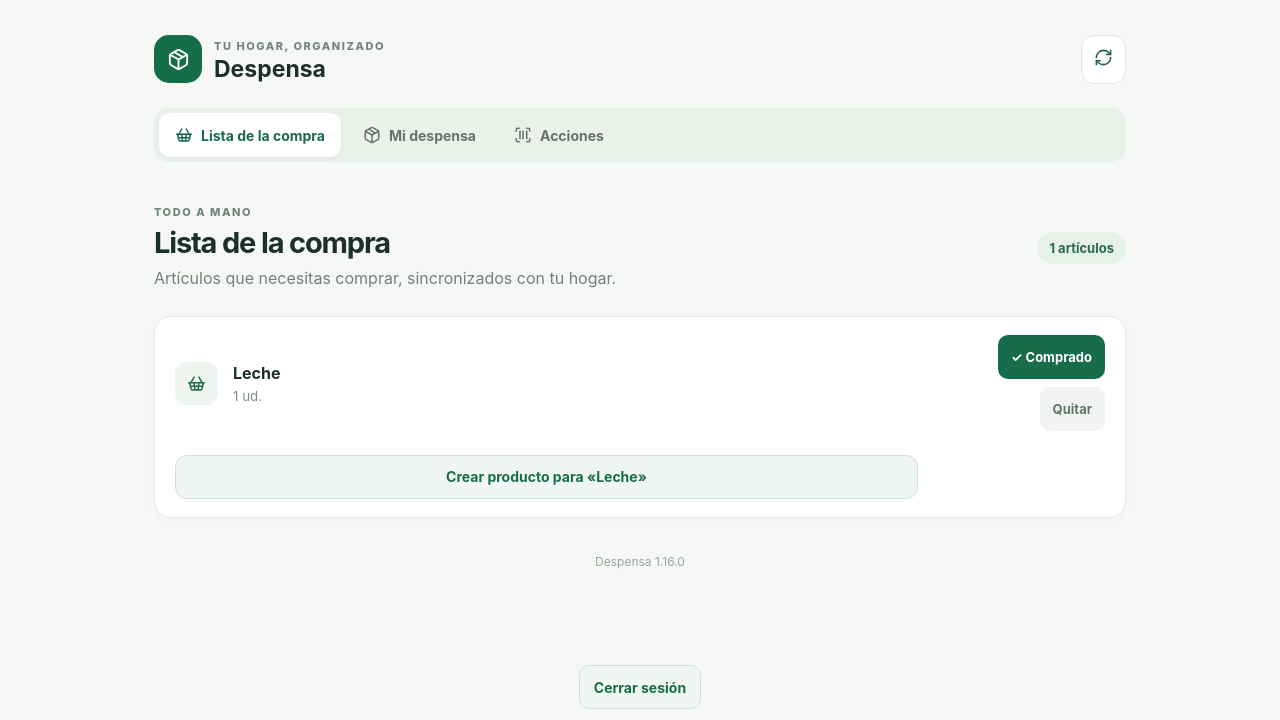
it: keeps creation only in the pantry and loads archives only through Actions
Step 1. Click the button "Mi despensa" → [420, 135], box [347, 113, 492, 157]
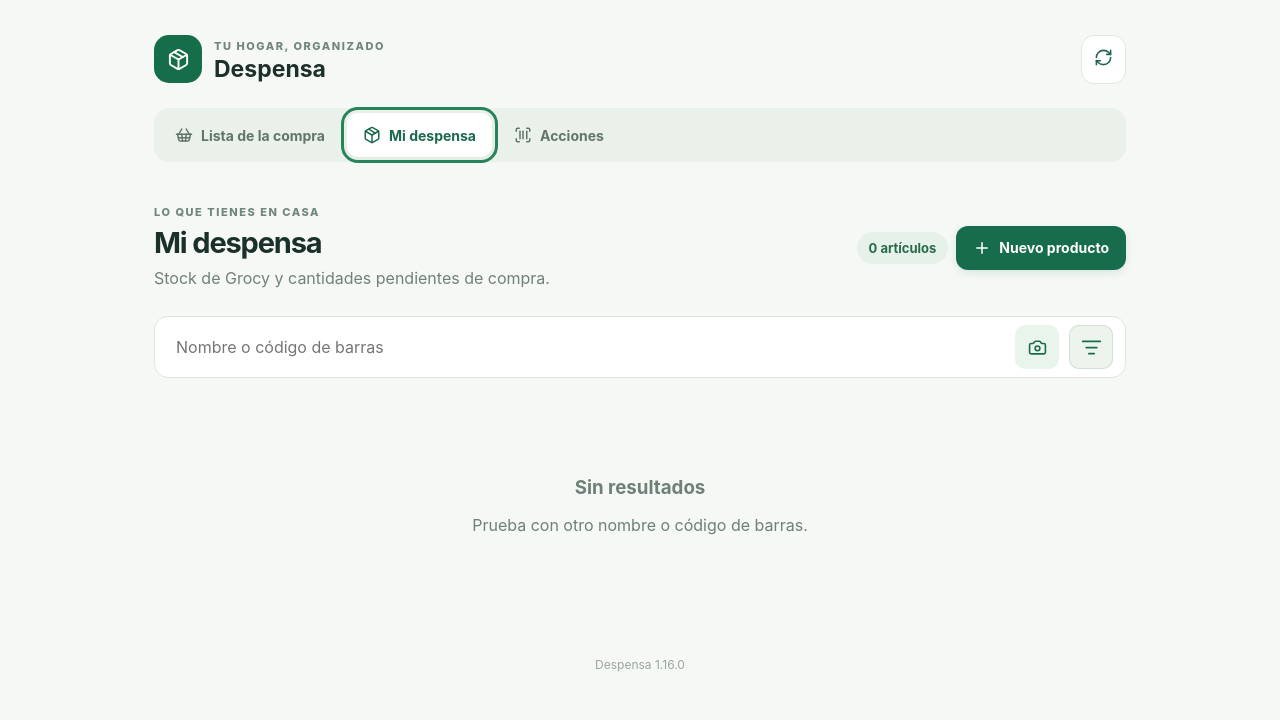
Check: the button "Nuevo producto" is shown, box [956, 226, 1126, 270]
Step 2. Click the button "Acciones" → [559, 135], box [498, 113, 620, 157]
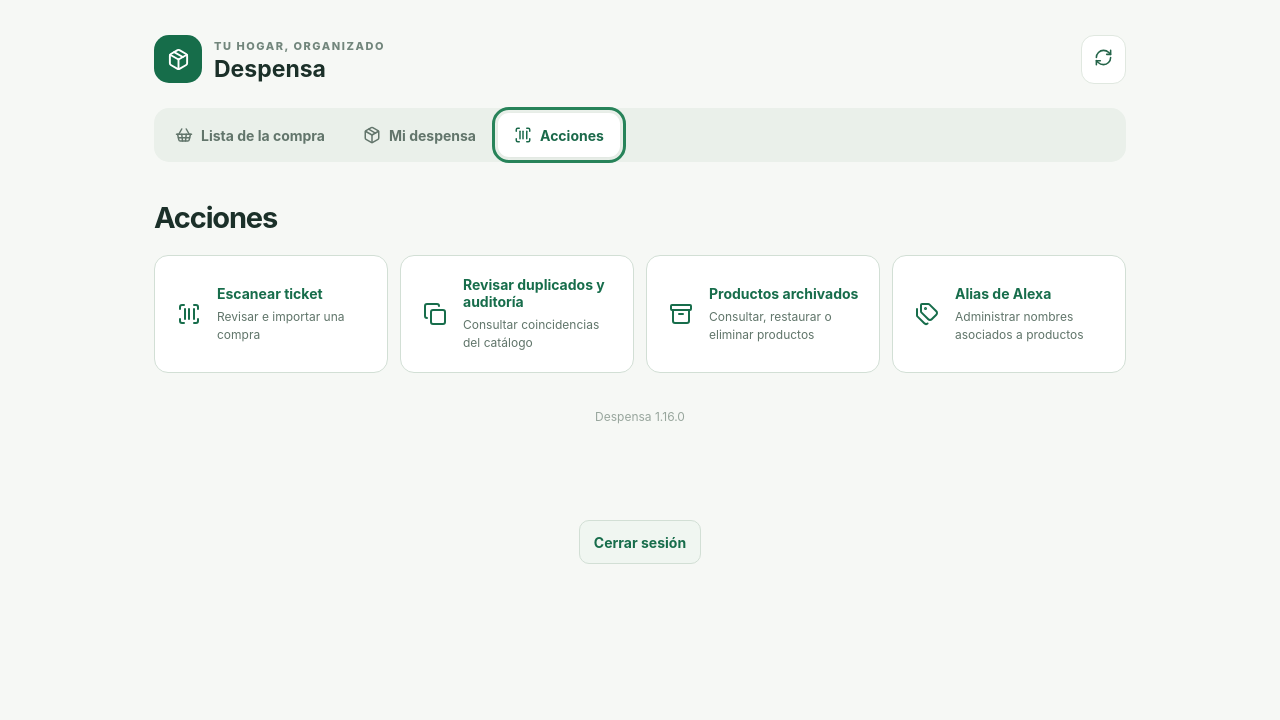
Check: the button "Nuevo producto" is gone
Step 3. Click the button "Productos archivados" → [763, 314], box [646, 255, 880, 373]
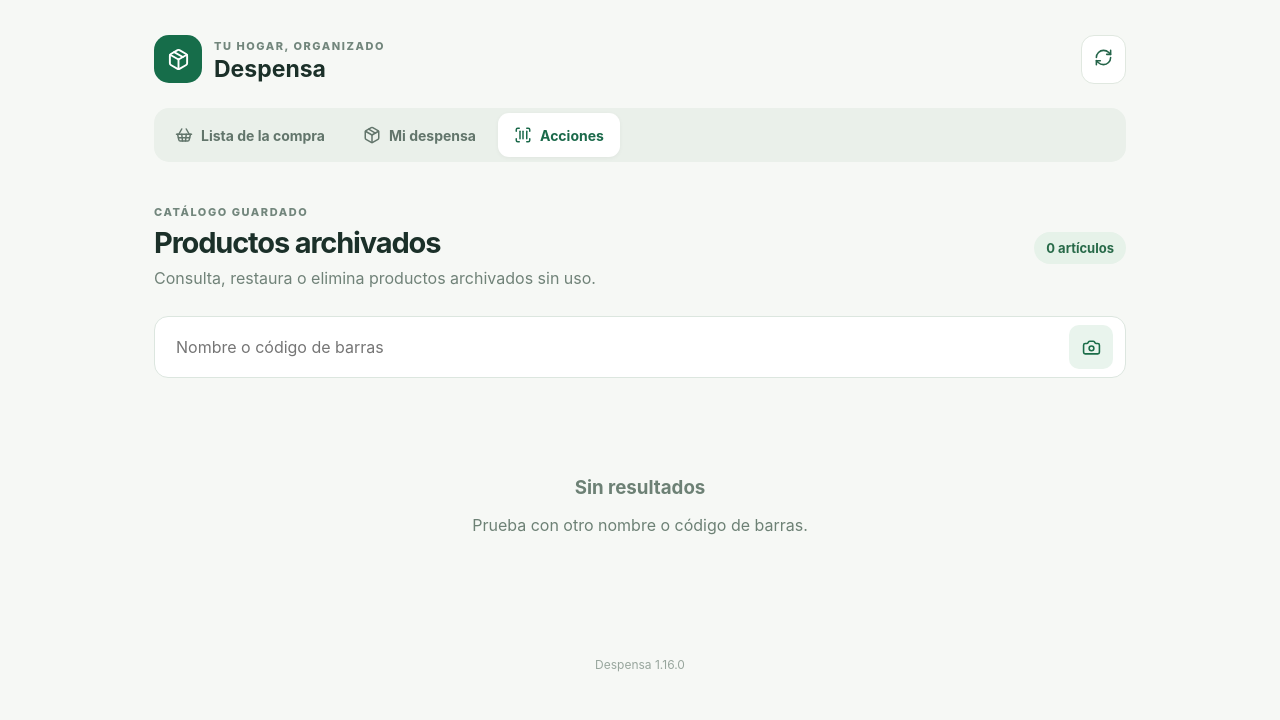
Check: the button "Nuevo producto" is not shown
Check: the heading "Productos archivados" is shown, box [154, 225, 440, 260]
Step 4. Click the button "Mi despensa" → [420, 135], box [347, 113, 492, 157]
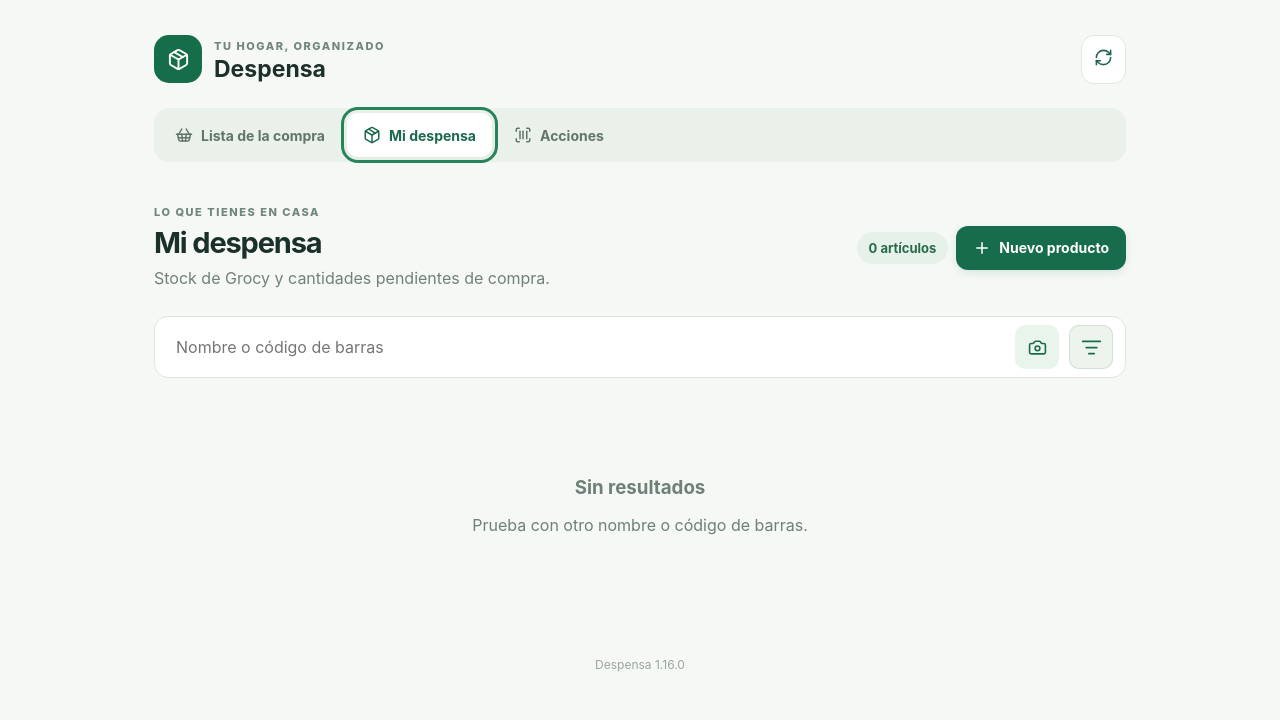
Check: the heading "Mi despensa" is shown, box [154, 225, 322, 260]
Check: the button "Nuevo producto" is shown, box [956, 226, 1126, 270]
